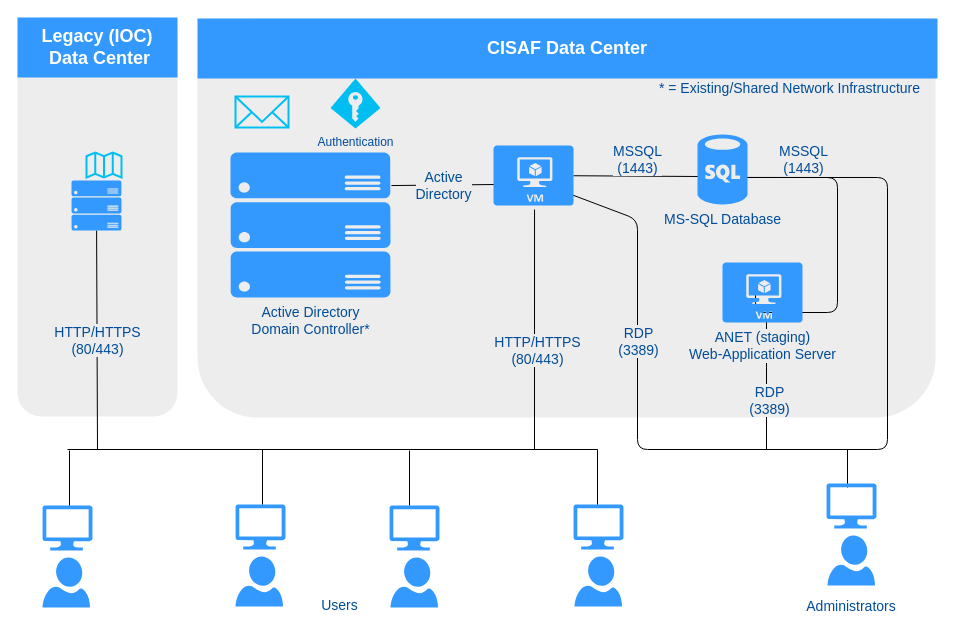
Image size: 963x633. Some labels were removed from this diagram. The shapes that lost their labels are listed below. From the top down, each one's centre as x and y in pixels, then its label:
point 261,111: Email
point 533,175: ANET (main) Web-Application Server
point 96,205: CoreGIS Server *
